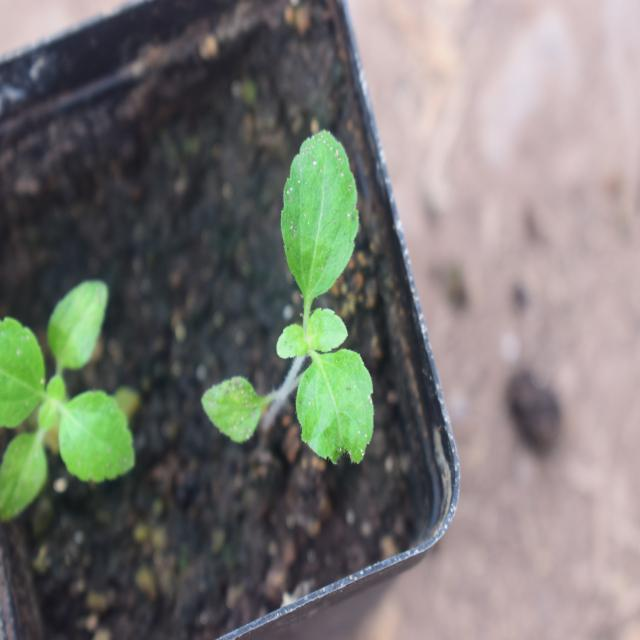billygoat_weed: (222, 121, 388, 474)
